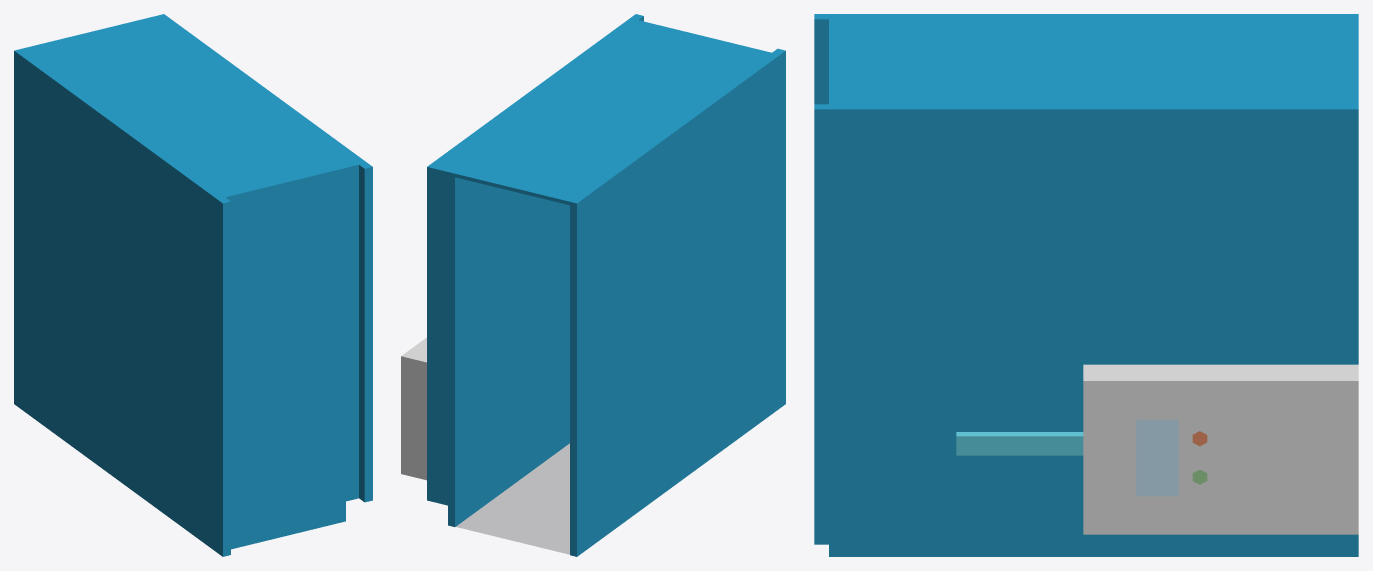
Rendered from drying_chamber_closed.dae.
3 renders of one model, left to right at view 1: azimuth 30°, elevation 25°; view 2: azimuth 150°, elevation 25°; view 3: azimuth 270°, elevation 25°, orthographic. The views are drawn at different scales.
Parts seen in each view (by area): view 1: instance_0; view 2: instance_0, instance_0_001, instance_0_003; view 3: instance_0, instance_0_003, instance_0_004, instance_0_002.
Boxes of the visible parts, x1,y1,x2,y2 form: instance_0: (14, 14, 372, 556); instance_0: (427, 14, 785, 556); instance_0_001: (456, 443, 569, 554); instance_0_003: (401, 337, 426, 480); instance_0: (814, 14, 1358, 556); instance_0_003: (1083, 364, 1358, 534); instance_0_004: (1136, 419, 1178, 496); instance_0_002: (956, 432, 1083, 455).
Bounding box in the file's own units: 984 × 1890 × 2024.
